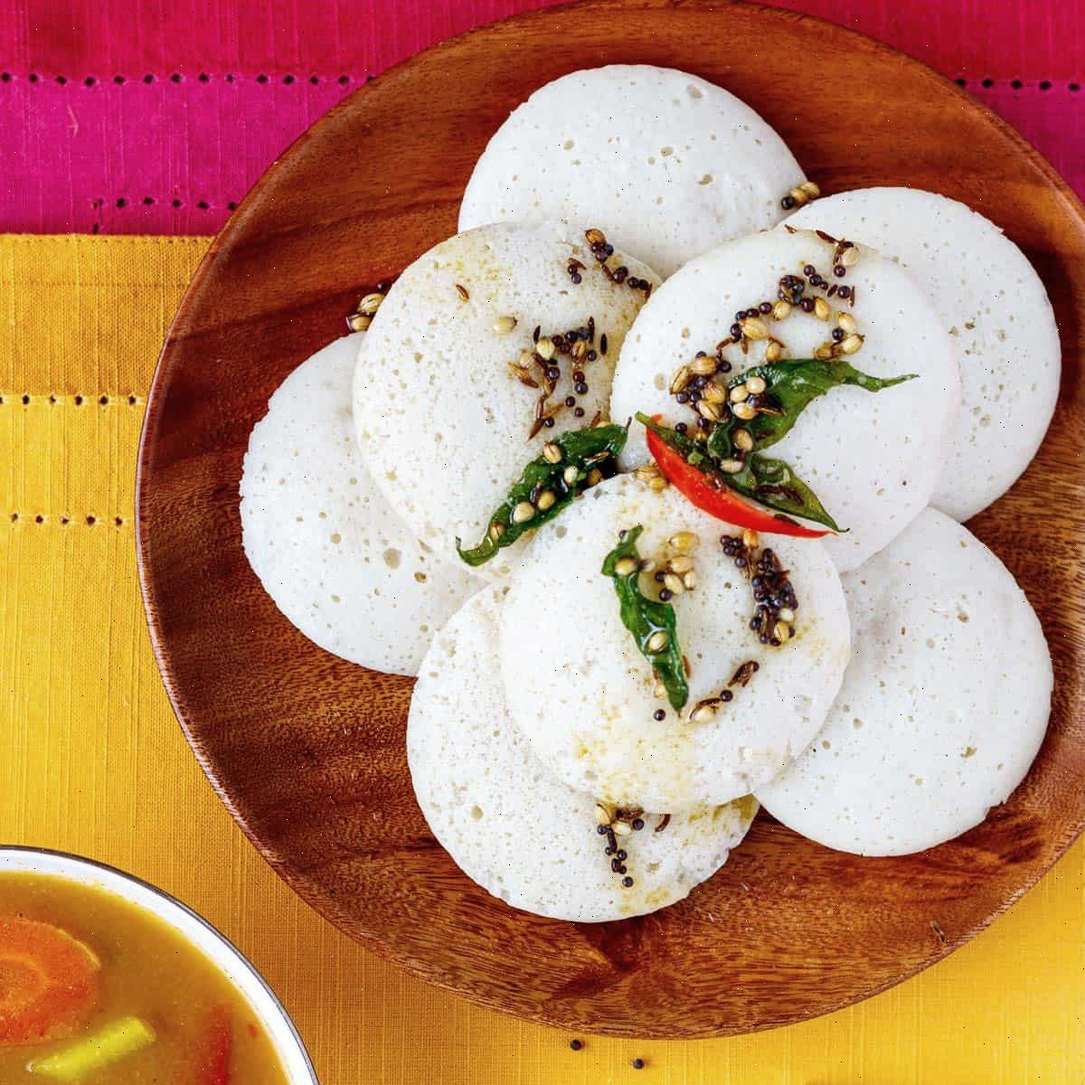idli: (293, 119, 1053, 840)
